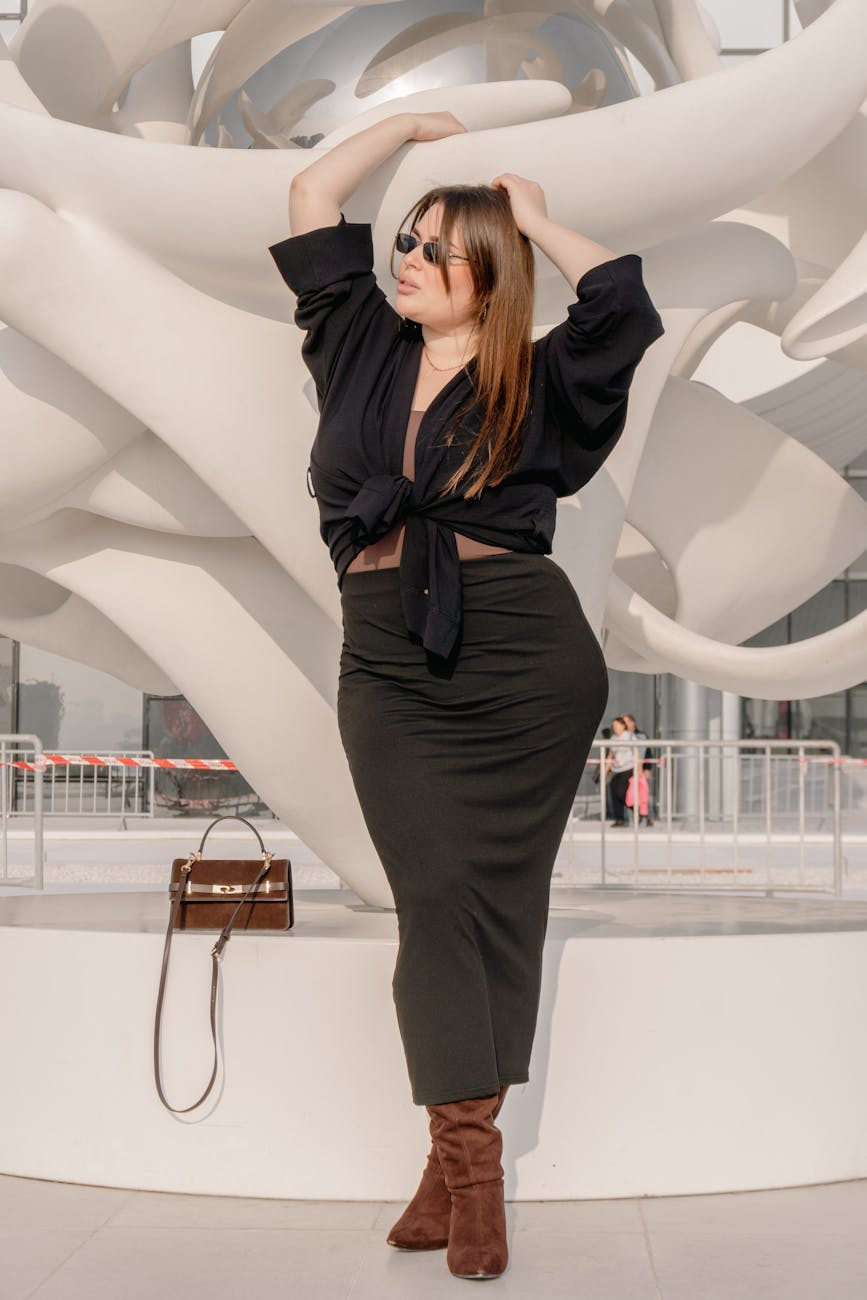crop_top: (303, 405, 582, 539)
